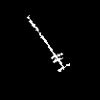treble_crochet: (27, 17, 69, 71)
